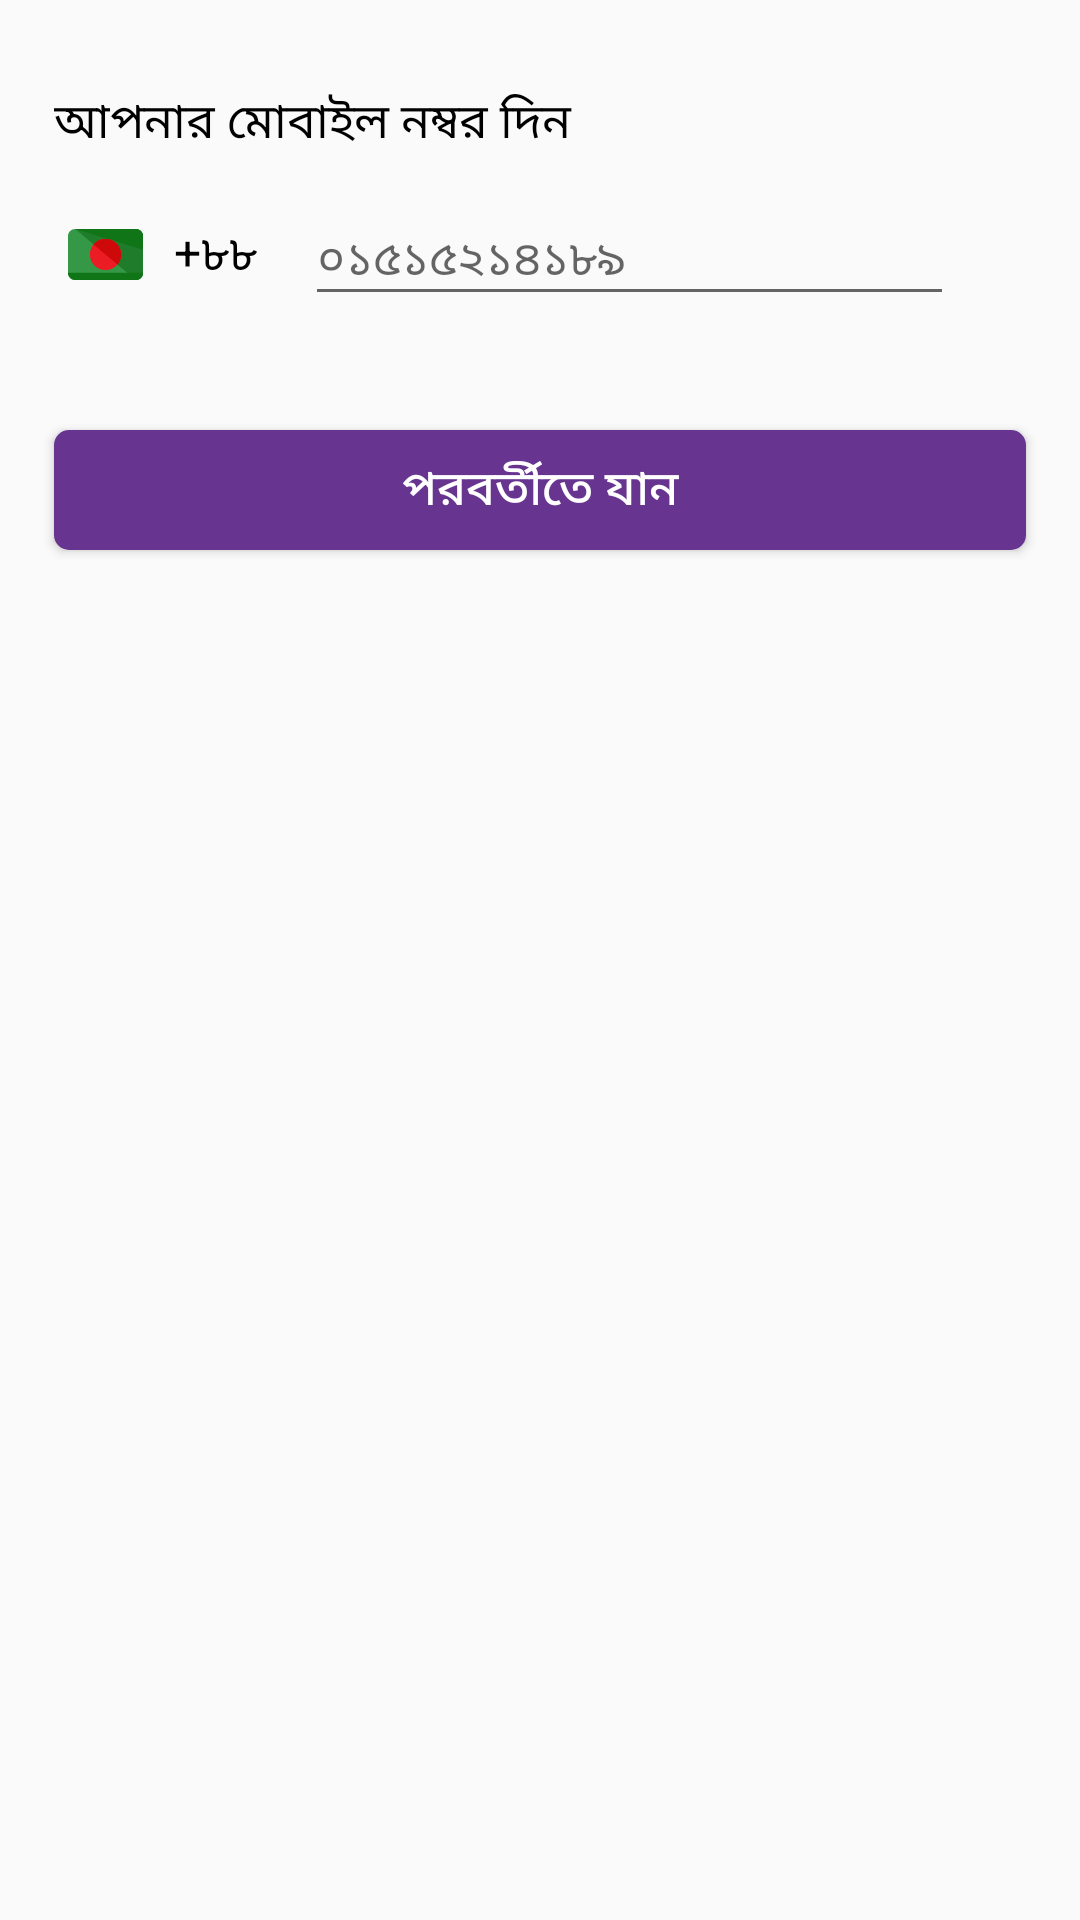

Screen size 1080 × 1920. Icon name, then its center in pixels as (x,y):
bangladesh: (105,254)
